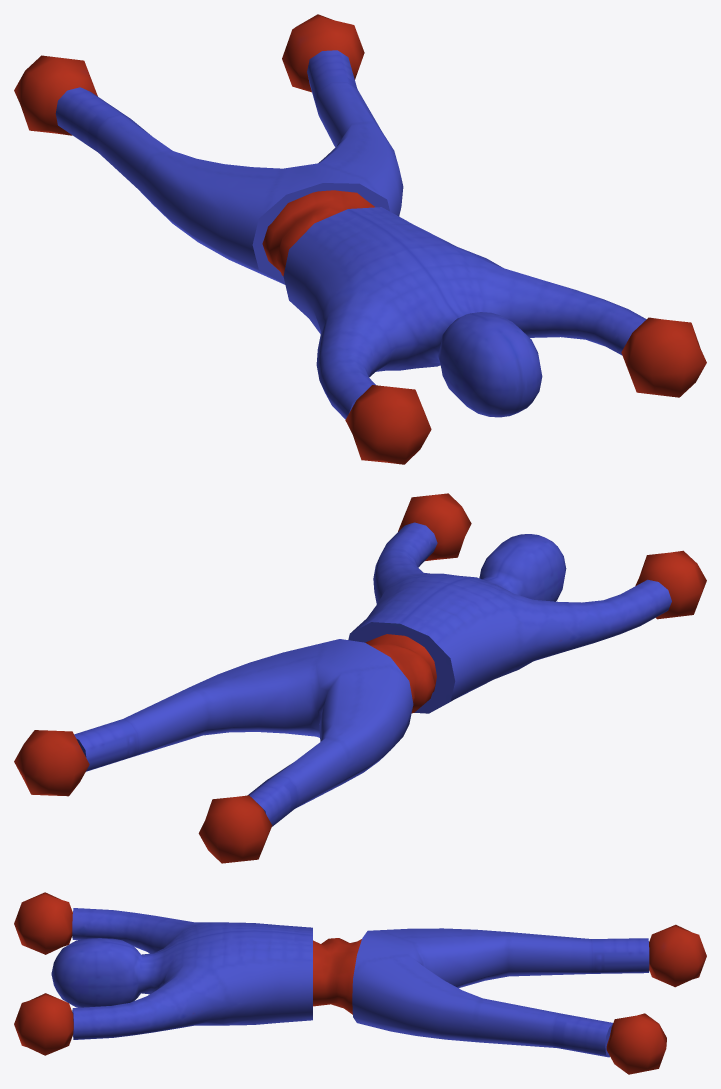
File: GTWallClimber.obj
3 renders of one model, top to bottom at view 1: azimuth 30°, elevation 25°; view 2: azimuth 150°, elevation 25°; view 3: azimuth 270°, elevation 25°, orthographic. The views are drawn at different scales.
Parts seen in each view (by area): view 1: paQiangXiaoRen; view 2: paQiangXiaoRen; view 3: paQiangXiaoRen.
Boxes of the visible parts, left/top/right/bottom form: paQiangXiaoRen: left=14, top=14, right=706, bottom=464; paQiangXiaoRen: left=14, top=493, right=706, bottom=863; paQiangXiaoRen: left=14, top=892, right=706, bottom=1074.
Bounding box in the file's own units: 0.7778 × 0.2137 × 1.55.
